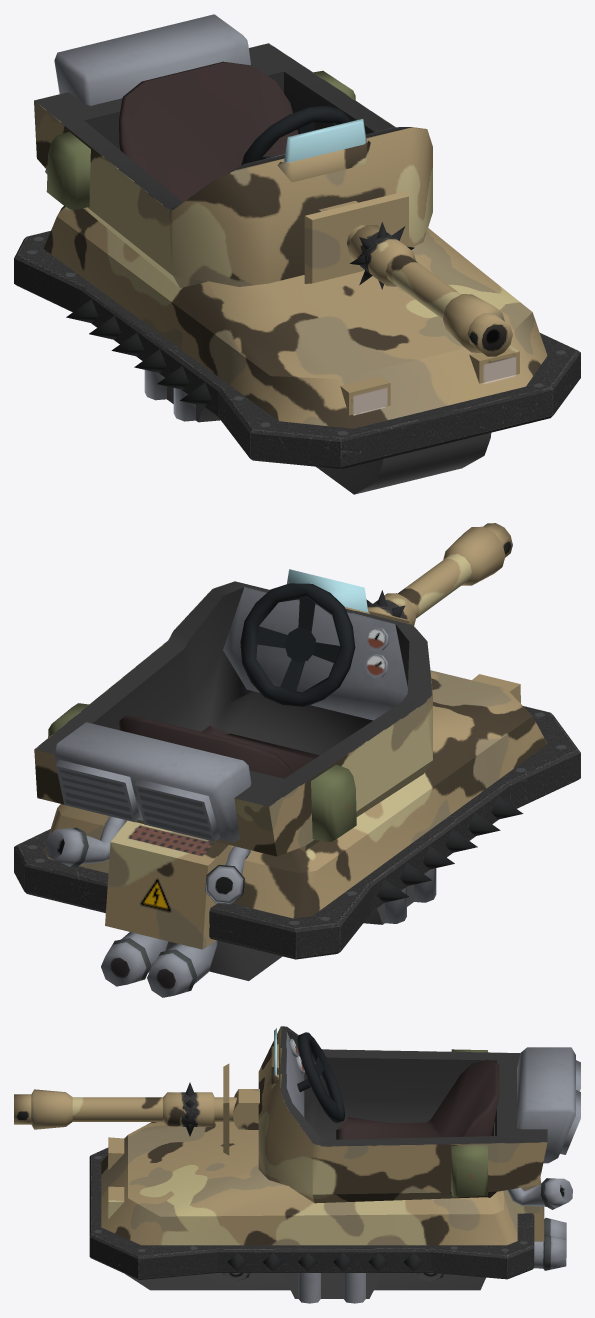
File: dry_bomber_low_F.fbx
3 renders of one model, top to bottom at view 1: azimuth 30°, elevation 25°; view 2: azimuth 150°, elevation 25°; view 3: azimuth 270°, elevation 25°, orthographic. The views are drawn at different scales.
Parts seen in each view (by area): view 1: Dry_Bomber; view 2: Dry_Bomber; view 3: Dry_Bomber.
Part boxes in pixels (left/top/right/bottom): Dry_Bomber: left=14, top=14, right=580, bottom=494; Dry_Bomber: left=14, top=523, right=580, bottom=997; Dry_Bomber: left=14, top=1026, right=580, bottom=1303.
Bounding box in the file's own units: 138 × 116 × 255.
